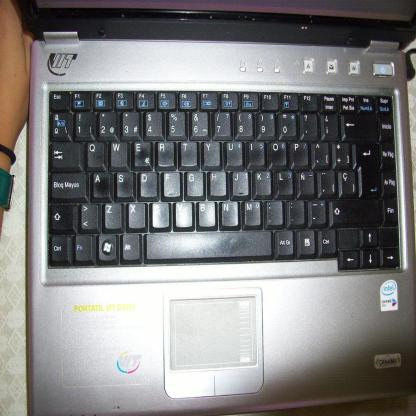board: (8, 0, 416, 394)
